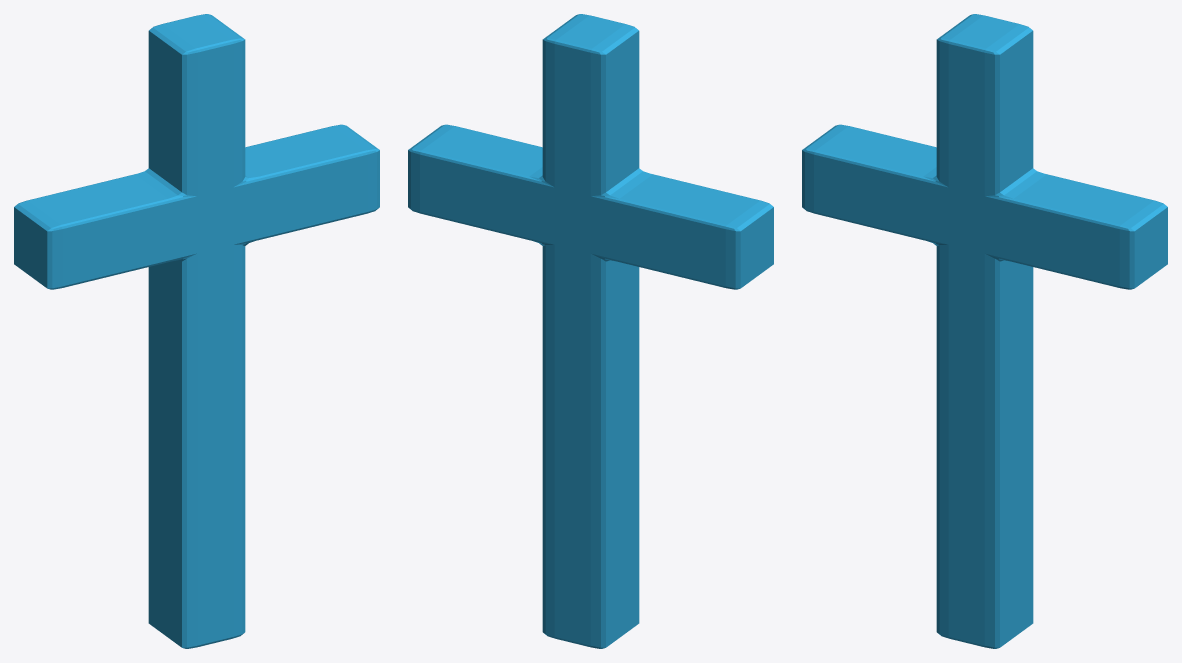
Rendered from journey.glb.
3 renders of one model, left to right at view 1: azimuth 30°, elevation 25°; view 2: azimuth 150°, elevation 25°; view 3: azimuth 330°, elevation 25°, orthographic.
Visible parts, largest first — view 1: Cube.004; view 2: Cube.004; view 3: Cube.004.
Boxes of the visible parts, x1,y1,x2,y2 form: Cube.004: (14, 14, 379, 648); Cube.004: (408, 14, 773, 648); Cube.004: (802, 14, 1167, 648).
Size of the model in its own units: 3.99 by 6.87 by 0.7579.
